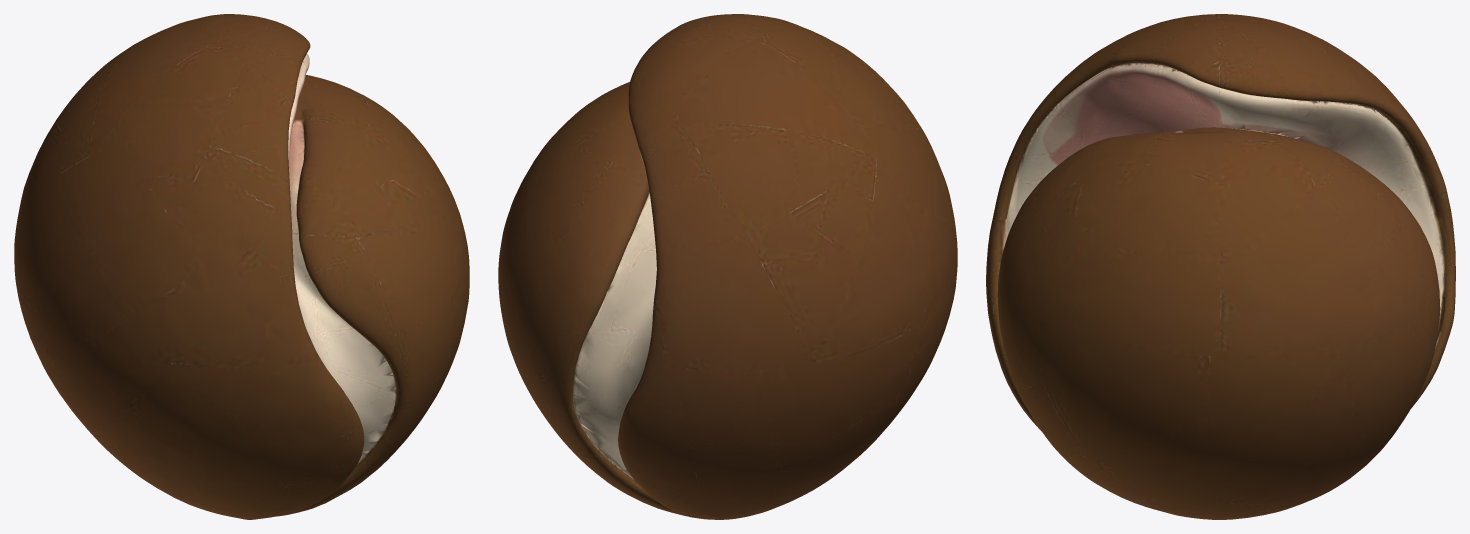
File: cocobrain_abstract_lo.glb
3 views of the same model, side by side, from view 1: azimuth 30°, elevation 25°; view 2: azimuth 150°, elevation 25°; view 3: azimuth 270°, elevation 25° (orthographic).
Visible parts, largest first — view 1: mesh_node; view 2: mesh_node; view 3: mesh_node.
Part boxes in pixels (<box>): mesh_node: <box>14,14,469,519</box>; mesh_node: <box>498,14,957,519</box>; mesh_node: <box>986,14,1455,519</box>.
Size of the model in its own units: 1.67 by 1.9 by 1.71.
1 material, 1 textured.
